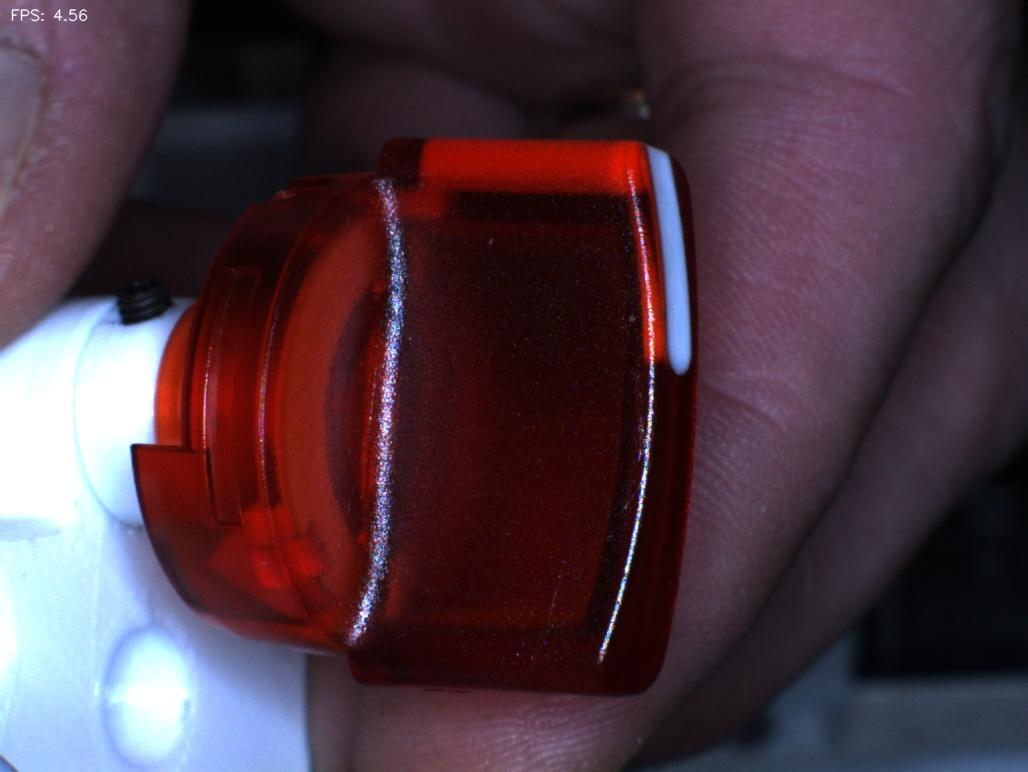Givrage: (605, 389, 671, 537)
